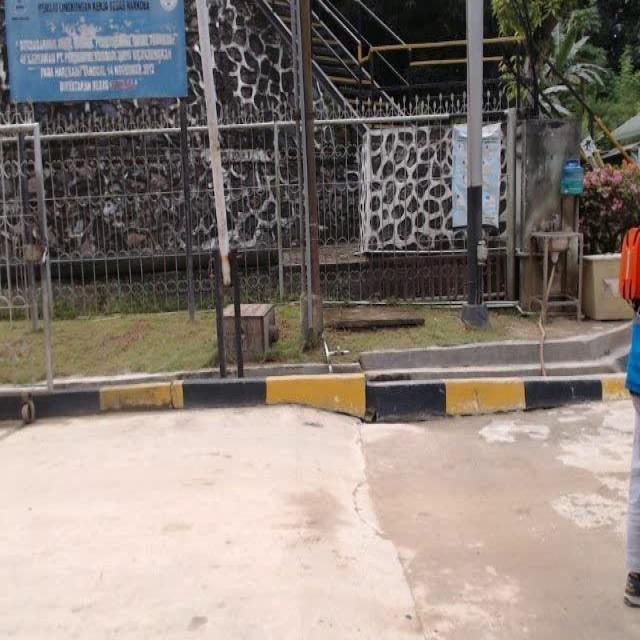Vest: (619, 221, 640, 308)
